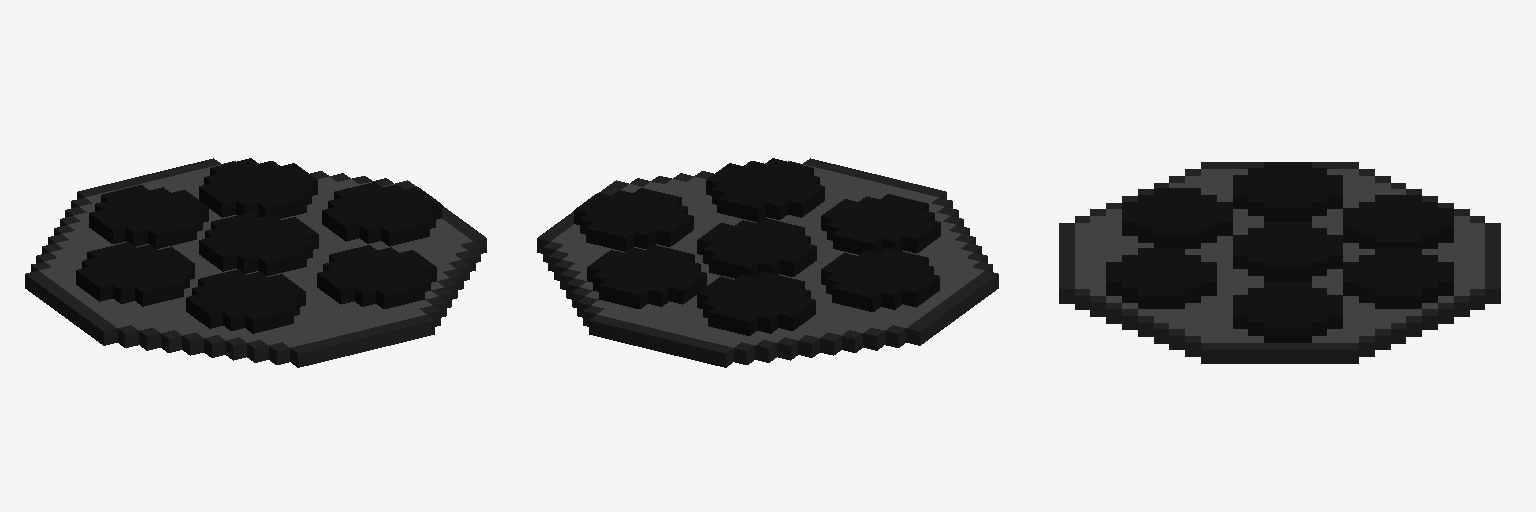
3 views of the same model, side by side, from view 1: azimuth 30°, elevation 25°; view 2: azimuth 150°, elevation 25°; view 3: azimuth 270°, elevation 25° (orthographic).
Parts seen in each view (by area): view 1: object 1; view 2: object 1; view 3: object 1.
Part boxes in pixels (left/top/right/bottom): object 1: left=25, top=158, right=486, bottom=367; object 1: left=537, top=158, right=998, bottom=367; object 1: left=1059, top=162, right=1500, bottom=363.
Bounding box in the file's own units: 2.8 × 0.2 × 2.8.
1 materials, 1 textured.